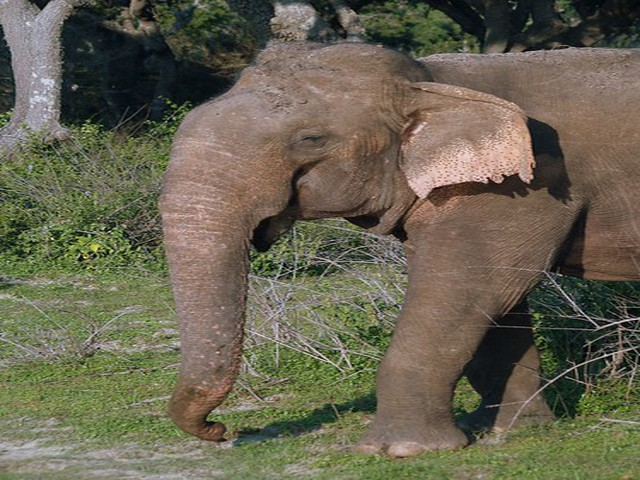Elephant: (155, 36, 640, 459)
